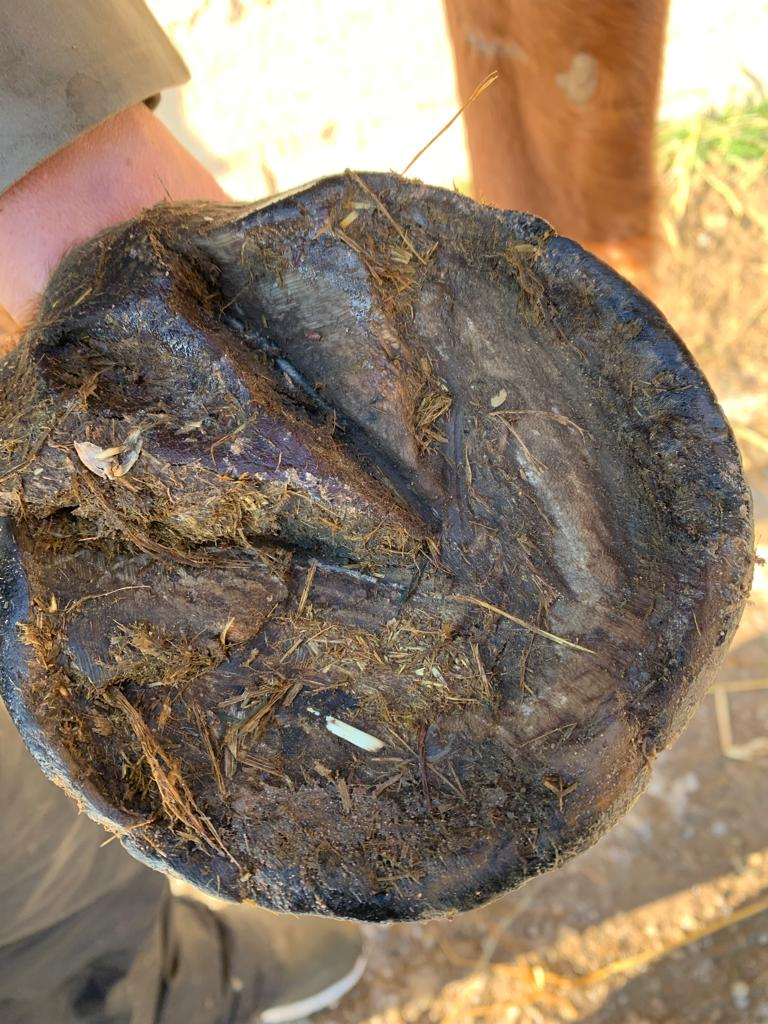horsesole: (2, 172, 757, 923)
